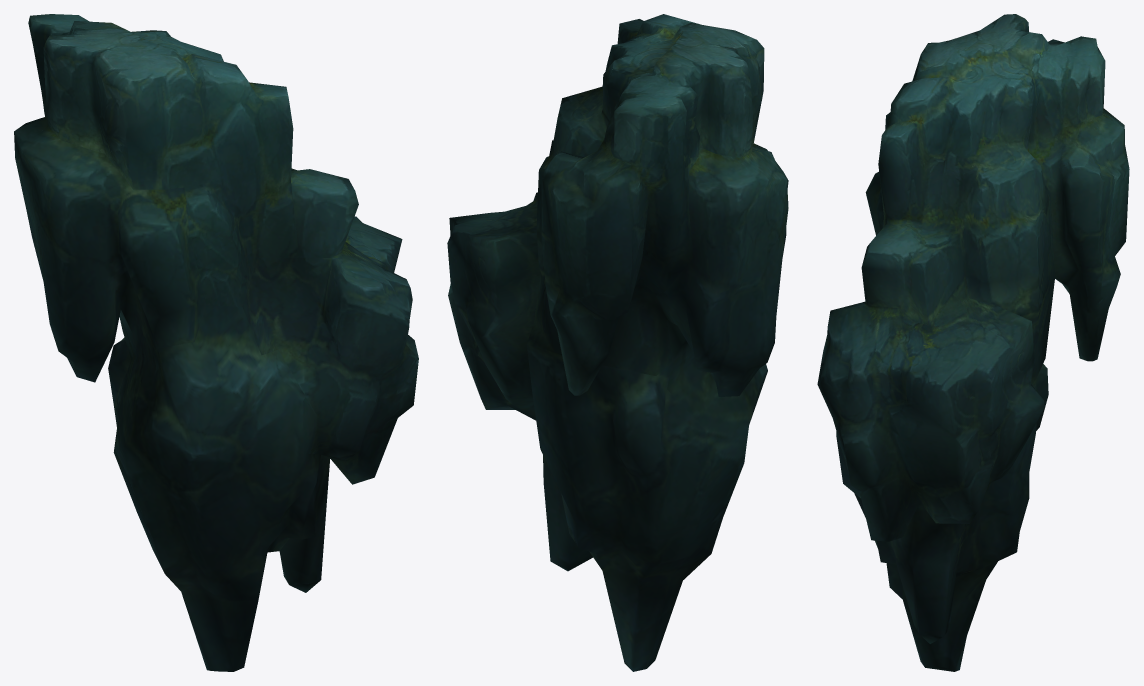
The model's file is Yland2_st_01 Yland2.FBX.
3 renders of one model, left to right at view 1: azimuth 30°, elevation 25°; view 2: azimuth 150°, elevation 25°; view 3: azimuth 270°, elevation 25°, orthographic. The views are drawn at different scales.
Parts seen in each view (by area): view 1: Yland2_st_01 Yland2; view 2: Yland2_st_01 Yland2; view 3: Yland2_st_01 Yland2.
Part boxes in pixels (bbox=[...]): Yland2_st_01 Yland2: bbox=[14, 14, 418, 671]; Yland2_st_01 Yland2: bbox=[447, 14, 788, 671]; Yland2_st_01 Yland2: bbox=[817, 14, 1129, 671].
Bounding box in the file's own units: 89.62 × 159 × 75.44.
